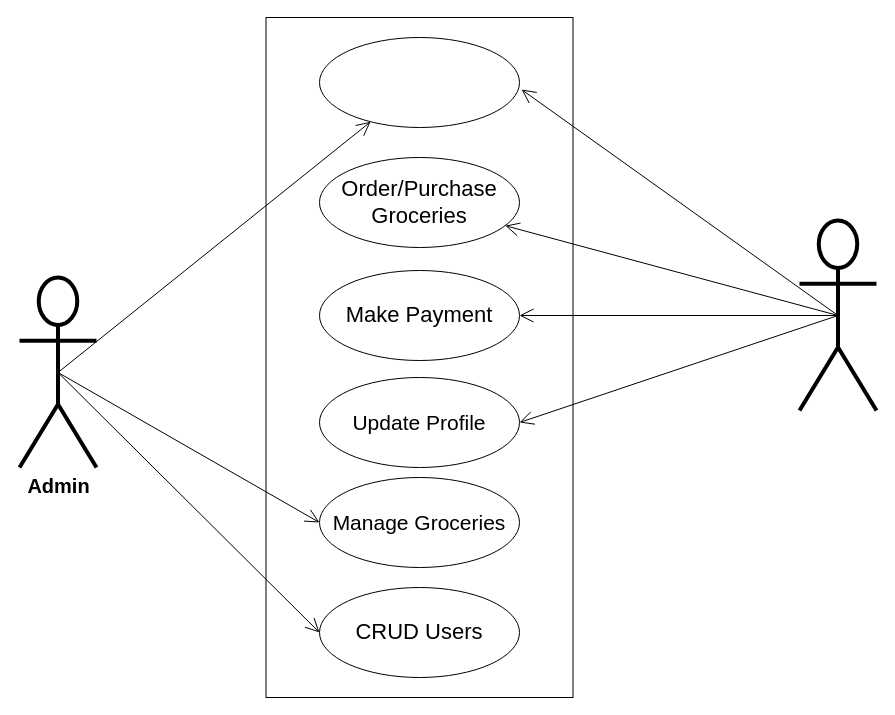
Image size: 895x715. Some labels were removed from this diagram. Here are the shapes that lost their labels. From the top down, the box of each, then its label:
(318, 36, 520, 128): Login / Logout
(797, 218, 878, 412): Users
